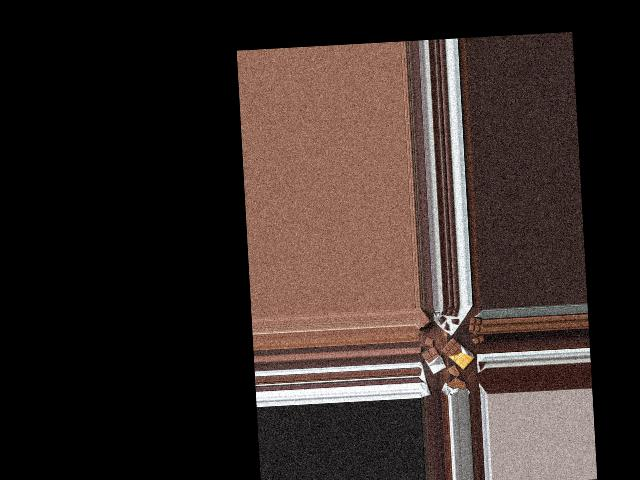chocolate: (419, 346, 447, 373)
